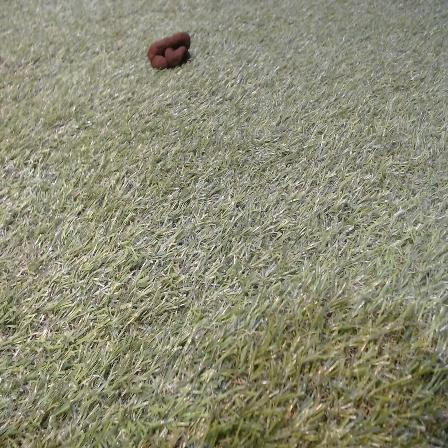dog-poop: (150, 32, 190, 70)
